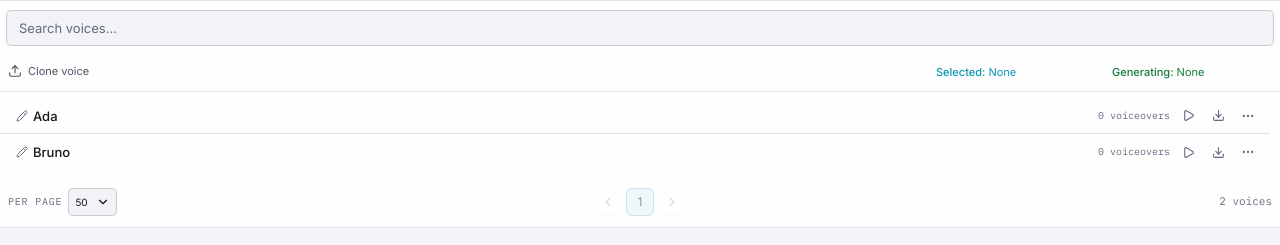
Test: ClonedVoicesSection › shows a no-results message for an unmatched query
Step 1. Type "missing" into the search field named "Search cloned voices" → coordinates (640, 28), box [6,10,1274,46]
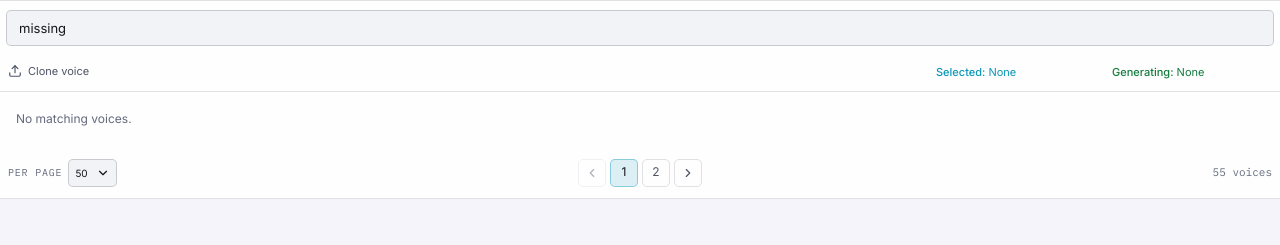
expect the list item "No matching voices." is shown: met, box [16,111,132,126]
